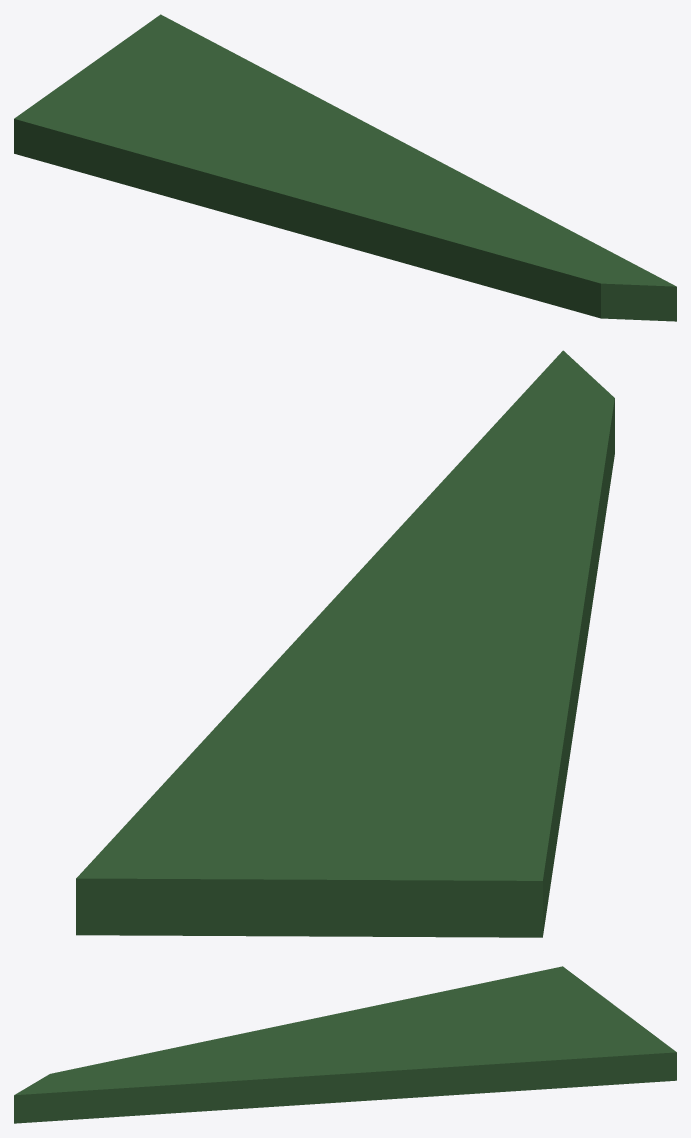
The model's file is x_proval_00_114_1_rmstrd.fbx.
The picture shows the model from 3 angles, top to bottom: view 1: azimuth 30°, elevation 25°; view 2: azimuth 150°, elevation 25°; view 3: azimuth 270°, elevation 25°; orthographic projection. The views are drawn at different scales.
Visible parts, largest first — view 1: x_proval_00_114_1_rmstrd1; view 2: x_proval_00_114_1_rmstrd1; view 3: x_proval_00_114_1_rmstrd1.
Part boxes in pixels (x1,y1,x2,y2): x_proval_00_114_1_rmstrd1: [14, 14, 676, 321]; x_proval_00_114_1_rmstrd1: [76, 350, 614, 937]; x_proval_00_114_1_rmstrd1: [14, 966, 676, 1123].
Size of the model in its own units: 1.95 by 0.2 by 4.23.
